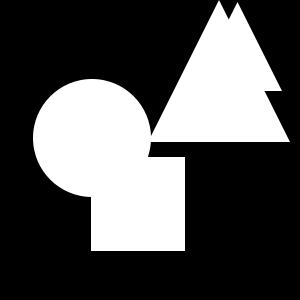circle: (91, 157, 185, 251)
rectangle: (33, 79, 151, 197)
triangle: (148, 0, 290, 142), (193, 2, 282, 91)
